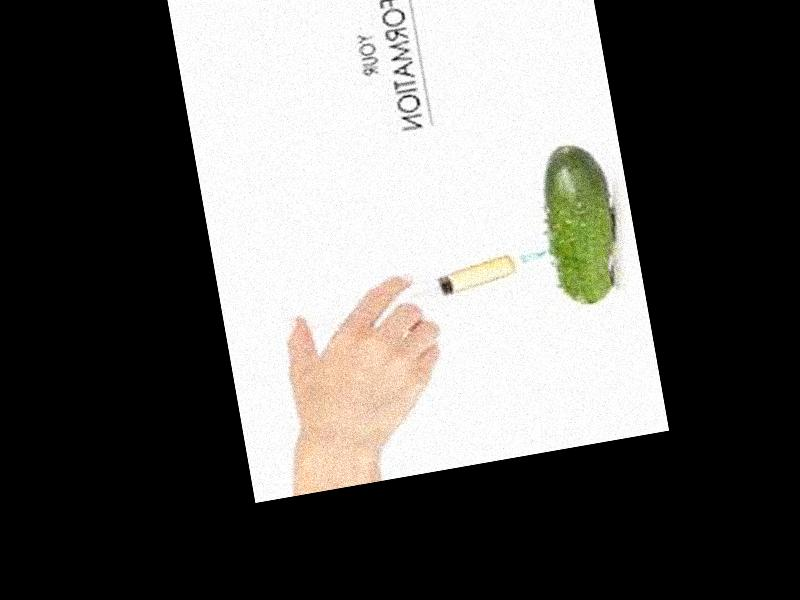Cucumber: (532, 140, 624, 311)
